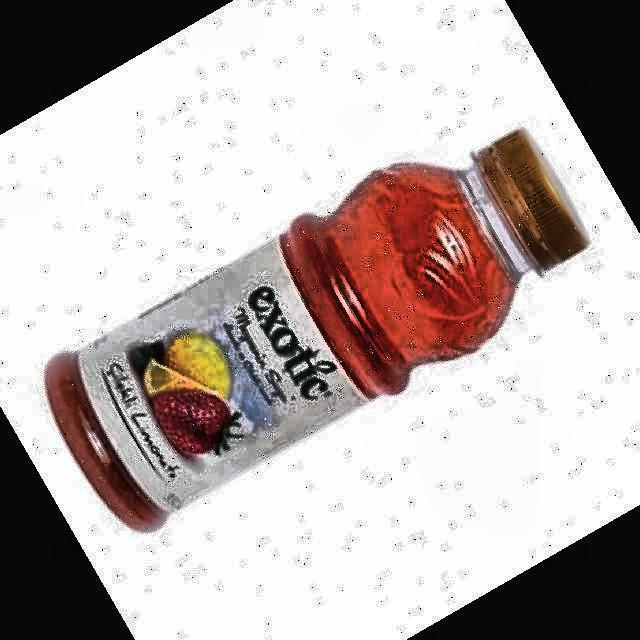plastic: (45, 129, 588, 531)
